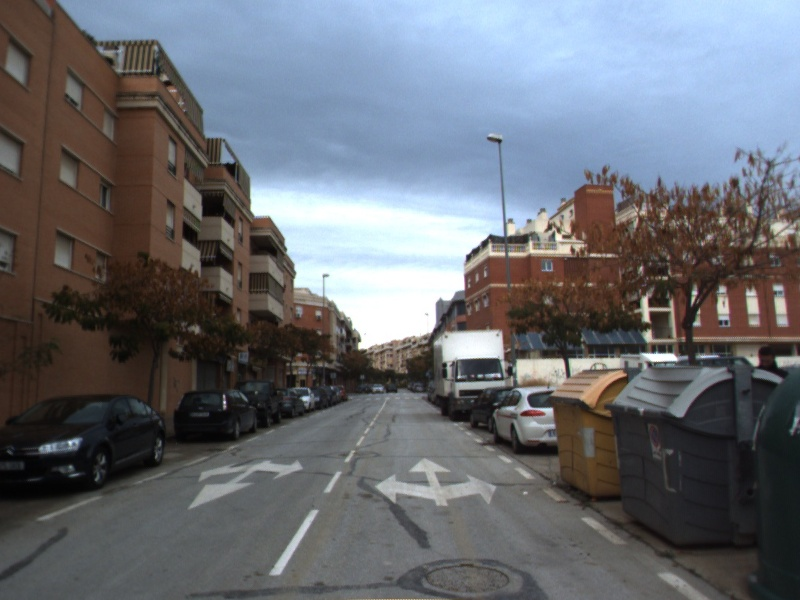STRAIGHT_LEFT_RIGHT: (373, 455, 499, 508)
